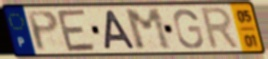A: (104, 9, 138, 51)
E: (55, 8, 99, 54)
G: (172, 8, 206, 50)
M: (123, 7, 175, 53)
P: (24, 9, 61, 54)
R: (199, 5, 242, 52)
